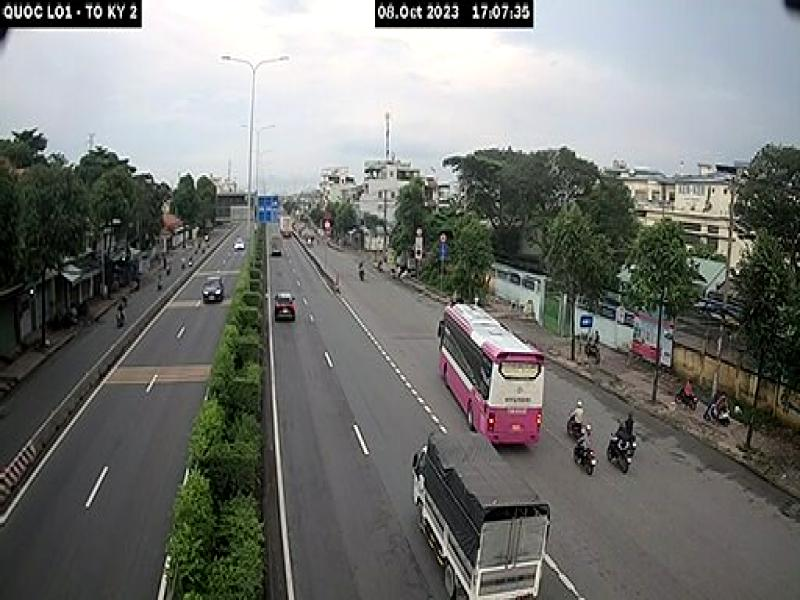bus: (435, 300, 546, 448)
truck: (416, 436, 554, 600)
